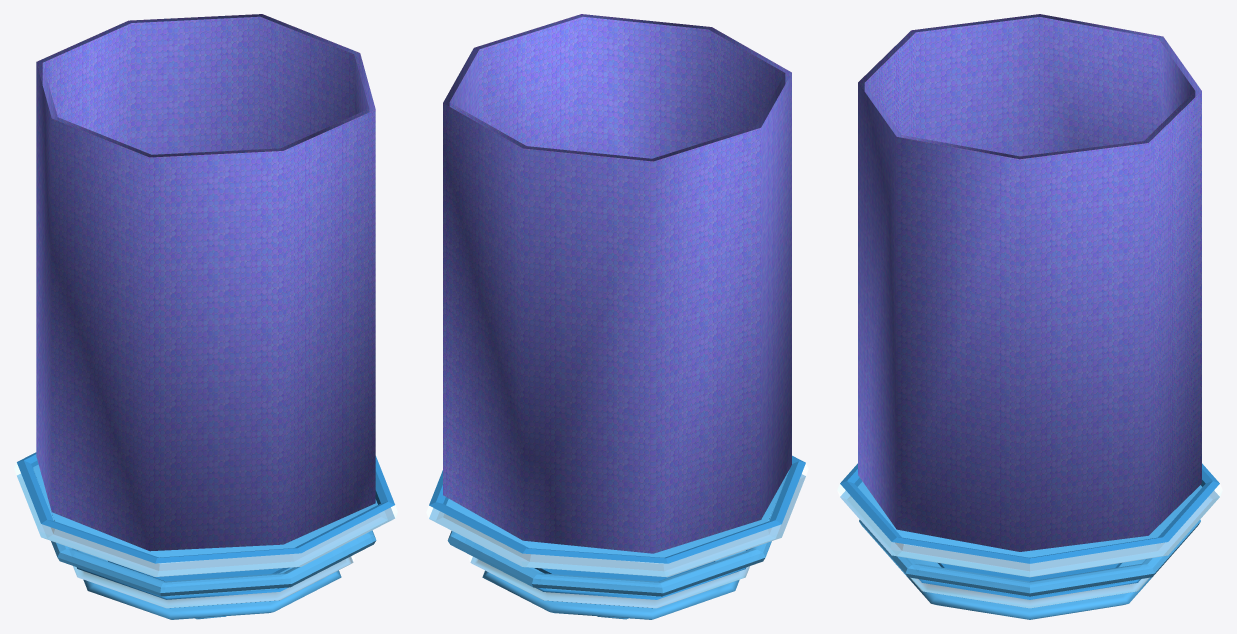
The model's file is Robot.fbx.
The picture shows the model from 3 angles, left to right: view 1: azimuth 30°, elevation 25°; view 2: azimuth 150°, elevation 25°; view 3: azimuth 270°, elevation 25°; orthographic projection.
Visible parts, largest first — view 1: shield, arc1, arc2, arc3, arc5, arc1Base, force2; view 2: shield, arc1, arc2, arc3, arc5, arc1Base, force2; view 3: shield, arc1, arc2, arc5, arc3, arc1Base, force2.
Part boxes in pixels (left/top/right/bottom): shield: left=36, top=14, right=375, bottom=551; arc1: left=14, top=452, right=397, bottom=576; arc2: left=50, top=512, right=376, bottom=596; arc3: left=73, top=548, right=354, bottom=608; arc5: left=77, top=550, right=341, bottom=619; arc1Base: left=33, top=464, right=377, bottom=563; force2: left=108, top=561, right=289, bottom=581; shield: left=443, top=14, right=791, bottom=553; arc1: left=426, top=455, right=808, bottom=577; arc2: left=447, top=511, right=773, bottom=596; arc3: left=469, top=549, right=749, bottom=608; arc5: left=482, top=550, right=745, bottom=619; arc1Base: left=446, top=469, right=789, bottom=563; force2: left=534, top=561, right=715, bottom=581; shield: left=858, top=14, right=1201, bottom=551; arc1: left=837, top=463, right=1222, bottom=577; arc2: left=859, top=519, right=1200, bottom=596; arc5: left=908, top=559, right=1151, bottom=619; arc3: left=910, top=577, right=1149, bottom=608; arc1Base: left=857, top=481, right=1202, bottom=557; force2: left=938, top=563, right=1121, bottom=581.
Size of what is drawn, in the model's own units: 259 by 386 by 259.
Materials: 5 (1 with a texture image).
